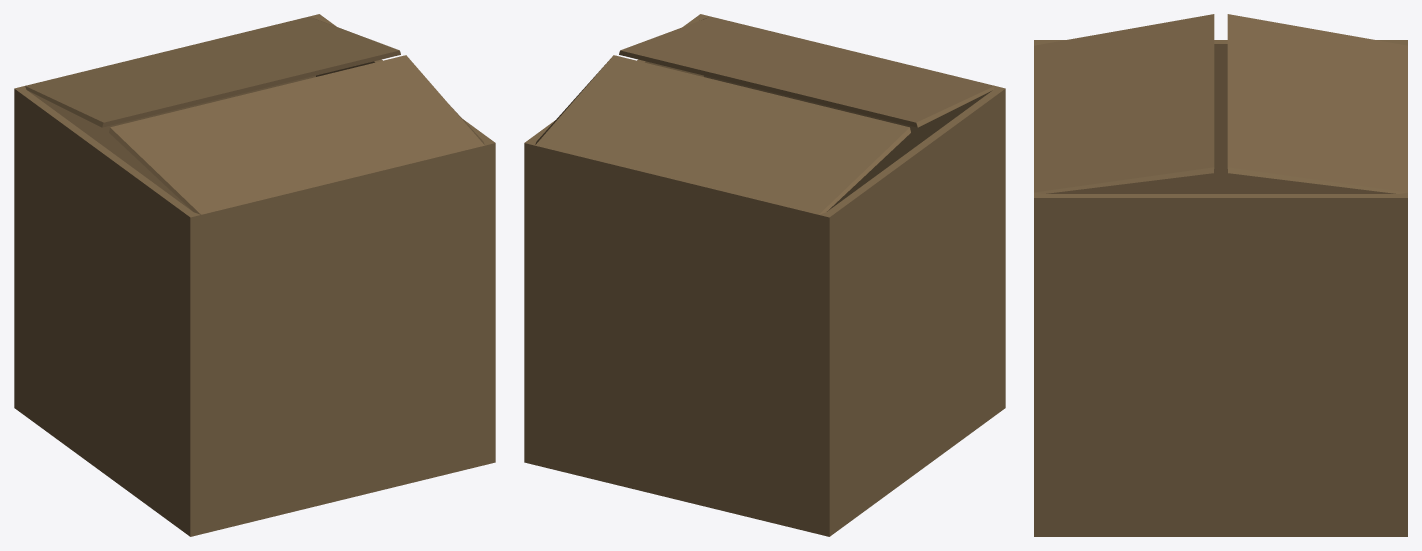
3 renders of one model, left to right at view 1: azimuth 30°, elevation 25°; view 2: azimuth 150°, elevation 25°; view 3: azimuth 270°, elevation 25°, orthographic. The views are drawn at different scales.
Parts seen in each view (by area): view 1: Cube; view 2: Cube; view 3: Cube.
Boxes of the visible parts, x1=… form: Cube: x1=14, y1=14, x2=495, y2=536; Cube: x1=524, y1=14, x2=1005, y2=536; Cube: x1=1034, y1=14, x2=1407, y2=536.
Bounding box in the file's own units: 200 × 217 × 200.
